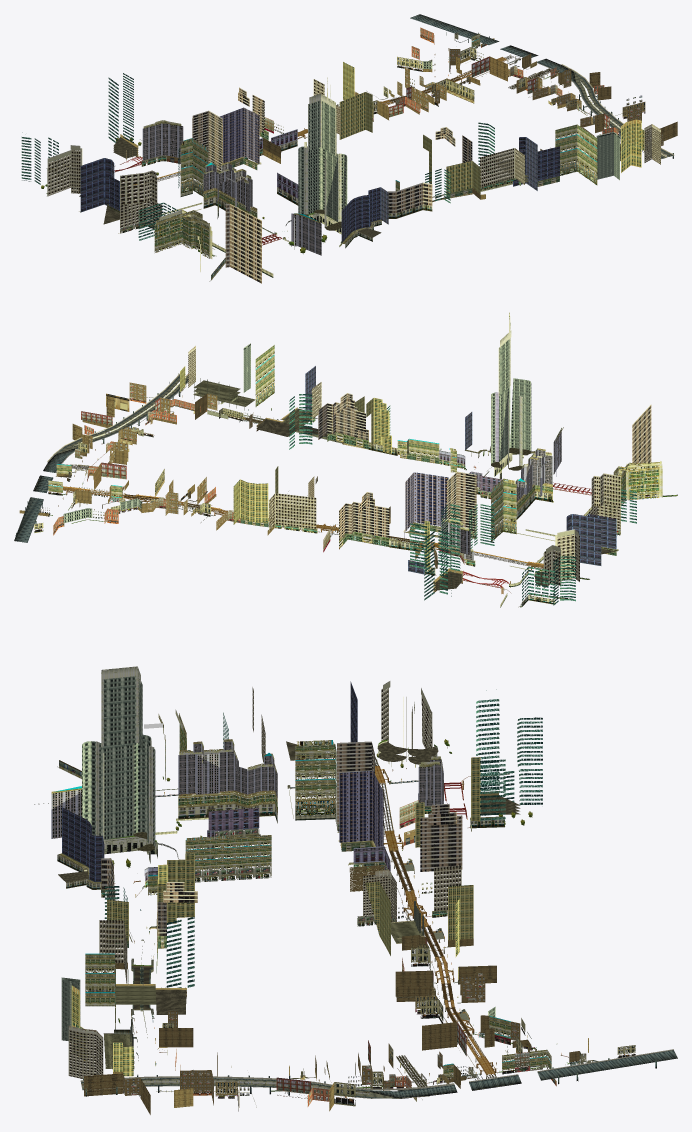
Rendered from track-US_C2_V2.glb.
3 renders of one model, top to bottom at view 1: azimuth 30°, elevation 25°; view 2: azimuth 150°, elevation 25°; view 3: azimuth 270°, elevation 25°, orthographic. The views are drawn at different scales.
Visible parts, largest first — view 1: US_C2_V2; view 2: US_C2_V2; view 3: US_C2_V2.
Boxes of the visible parts, bbox=[...] form: US_C2_V2: bbox=[21, 14, 677, 283]; US_C2_V2: bbox=[14, 312, 677, 607]; US_C2_V2: bbox=[34, 666, 677, 1114].
Bounding box in the file's own units: 1928 × 548 × 1422.
Materials: 89 (88 with a texture image).
